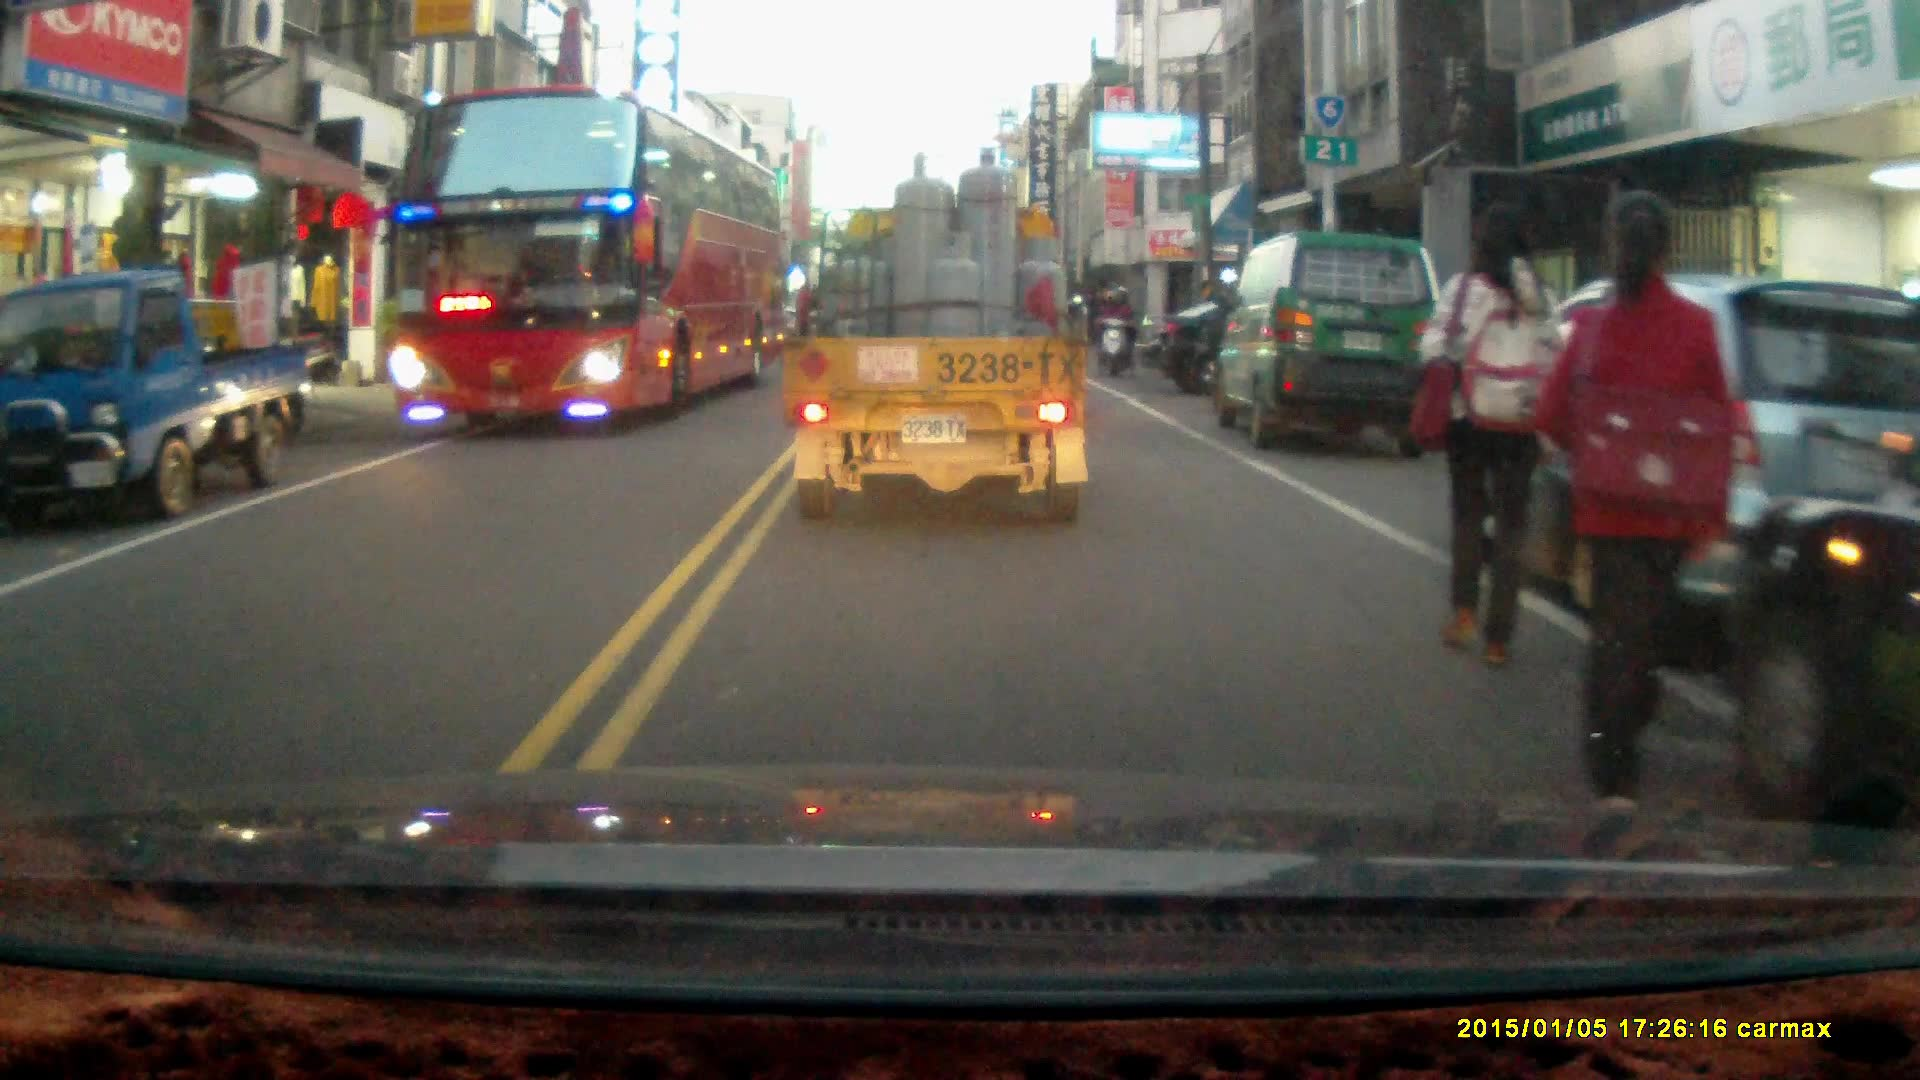pedestrian: (1532, 185, 1734, 825), (1419, 198, 1562, 678)
rider: (1092, 283, 1136, 376)
vehicle: (383, 88, 788, 436), (783, 146, 1095, 528), (1, 270, 318, 522), (1719, 496, 1920, 838), (1215, 227, 1444, 447), (1132, 302, 1426, 401)
